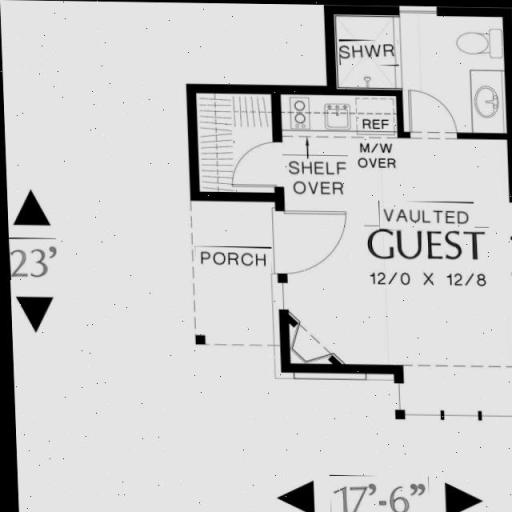Room: (292, 150, 512, 384)
bathroom: (351, 22, 505, 91)
porch: (196, 208, 279, 344)
